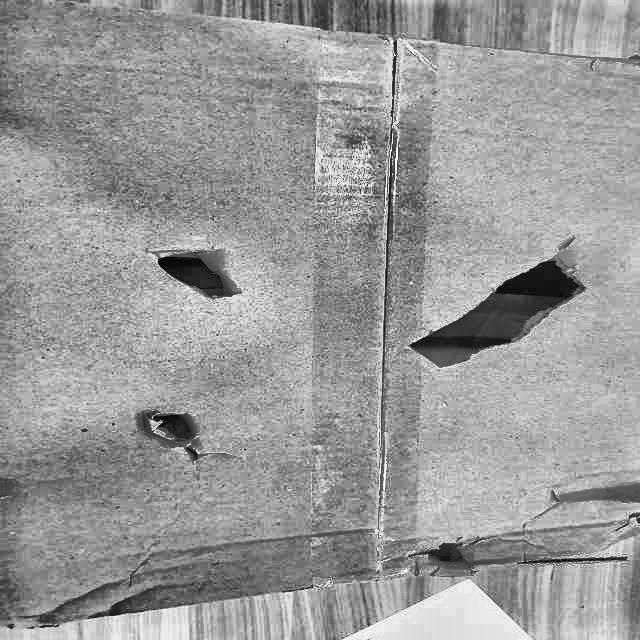box: (0, 0, 639, 639)
hole: (393, 248, 599, 368), (139, 245, 247, 299), (131, 406, 216, 454)
